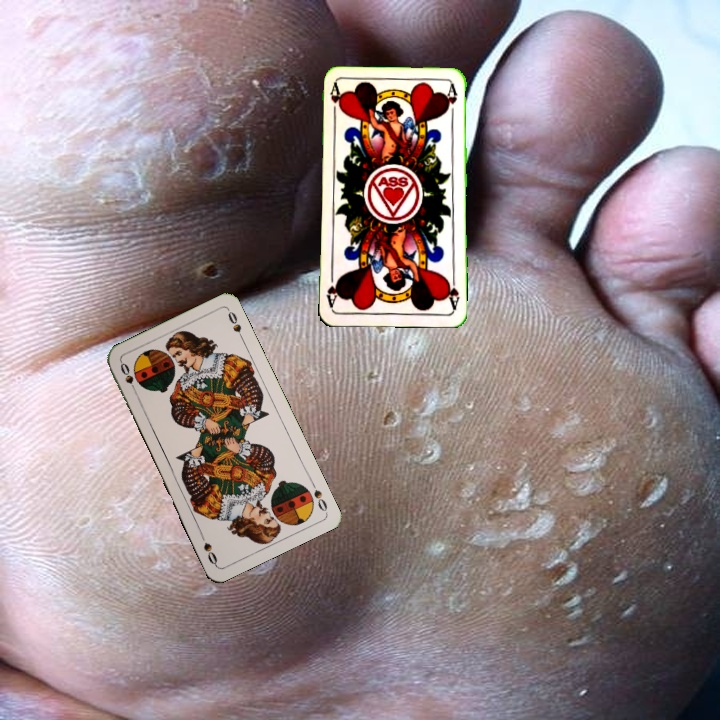HA: (443, 271, 462, 311), (326, 81, 343, 121)
SO: (116, 358, 140, 397), (307, 476, 330, 514)
